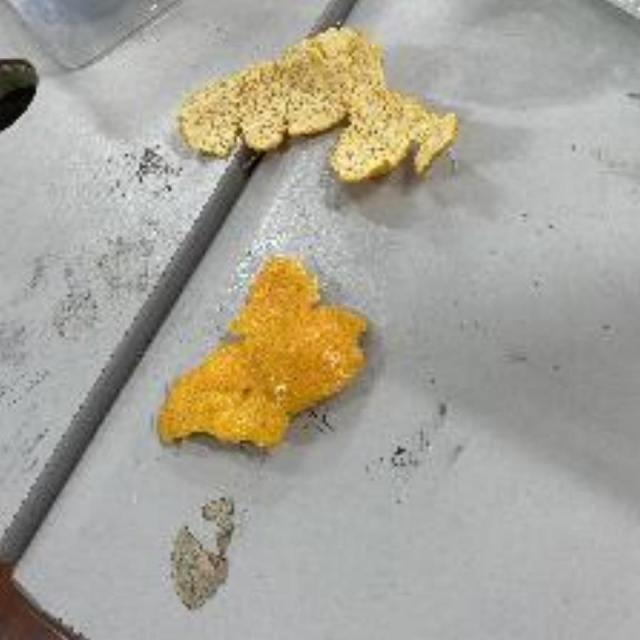orange-peel: (154, 251, 372, 453)
